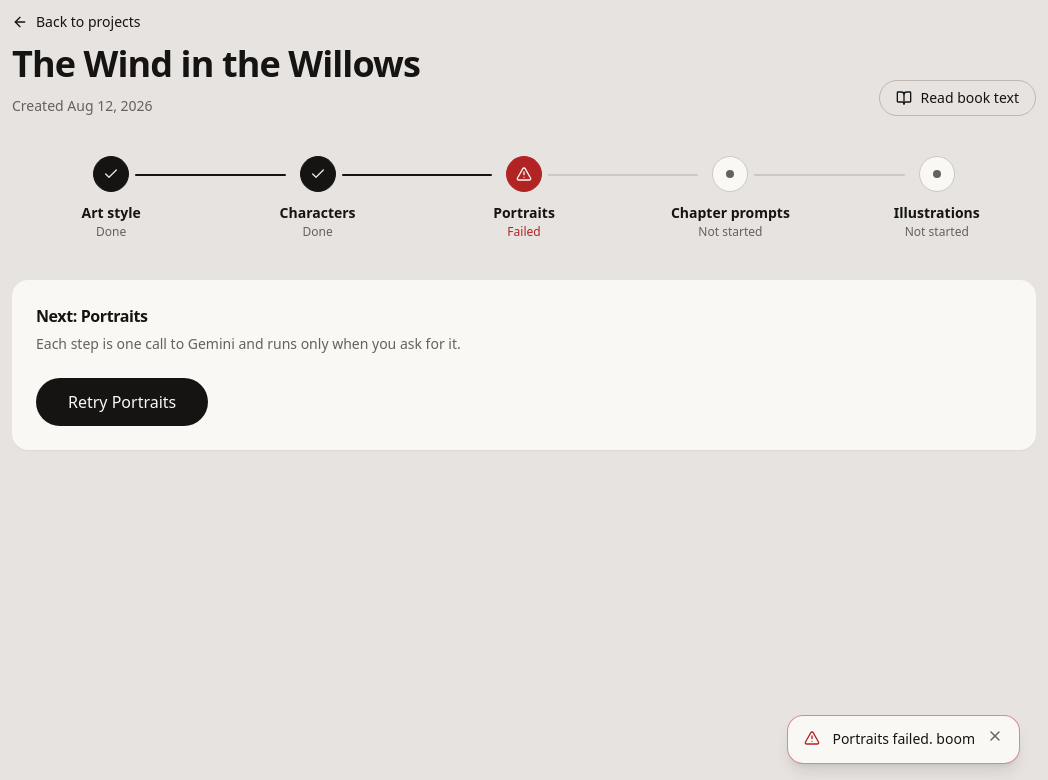
it: project detail, live states › treats STEP_LOCKED as already running rather than as an error
The width and height of the screenshot is (1048, 780).
Click the button "Retry Portraits". click: (122, 402)
box: [36,378,208,426]
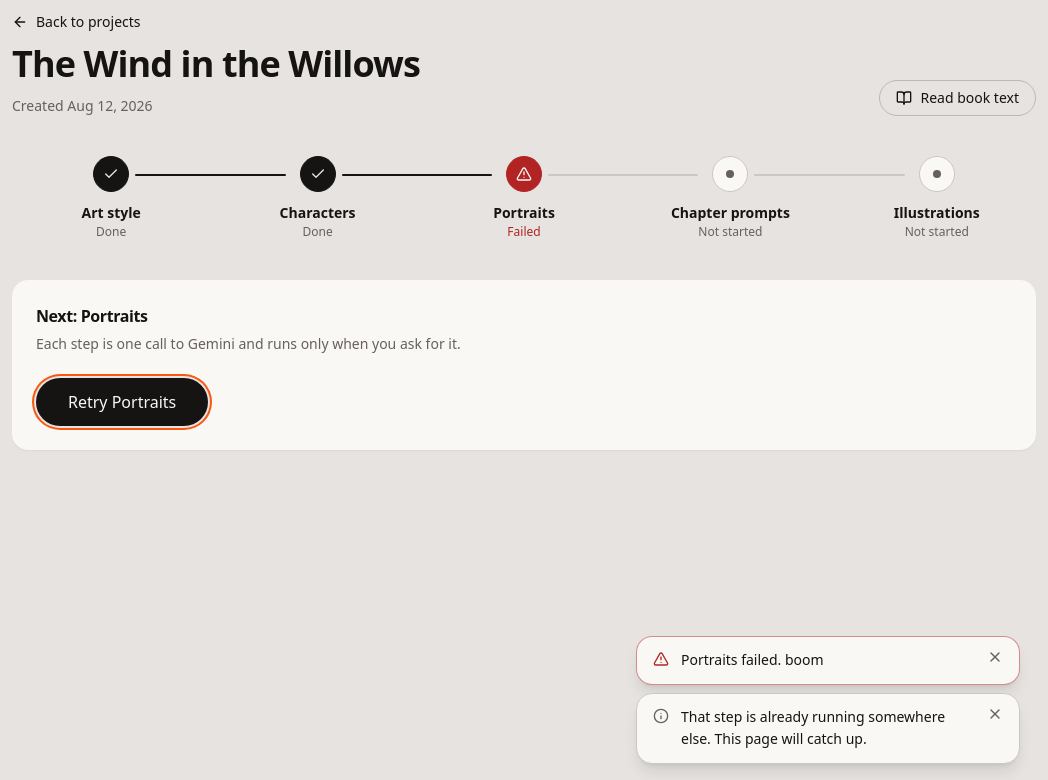
Result: the text "already running somewhere else" is shown at [681,706,945,748]
